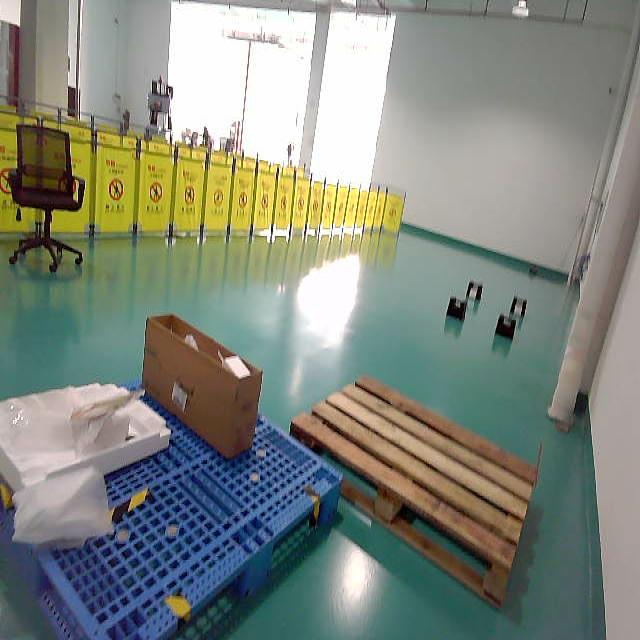euro: (290, 377, 537, 605)
